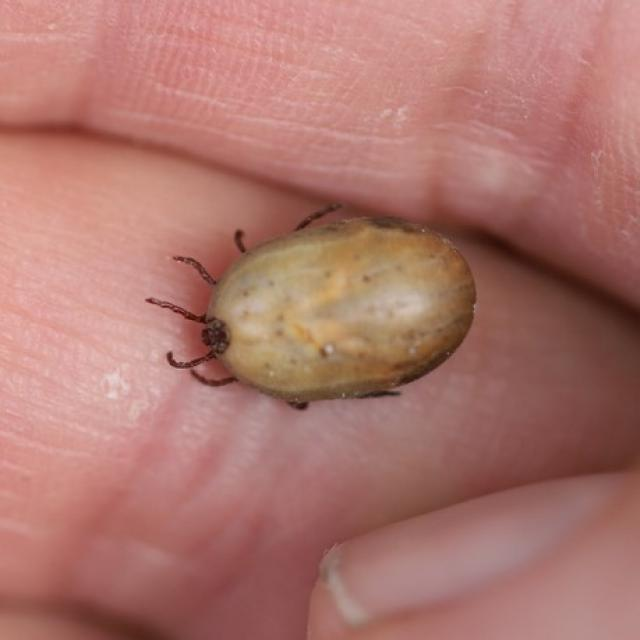Dermacentor Reticulatus-F-Fed: (146, 203, 478, 411)
